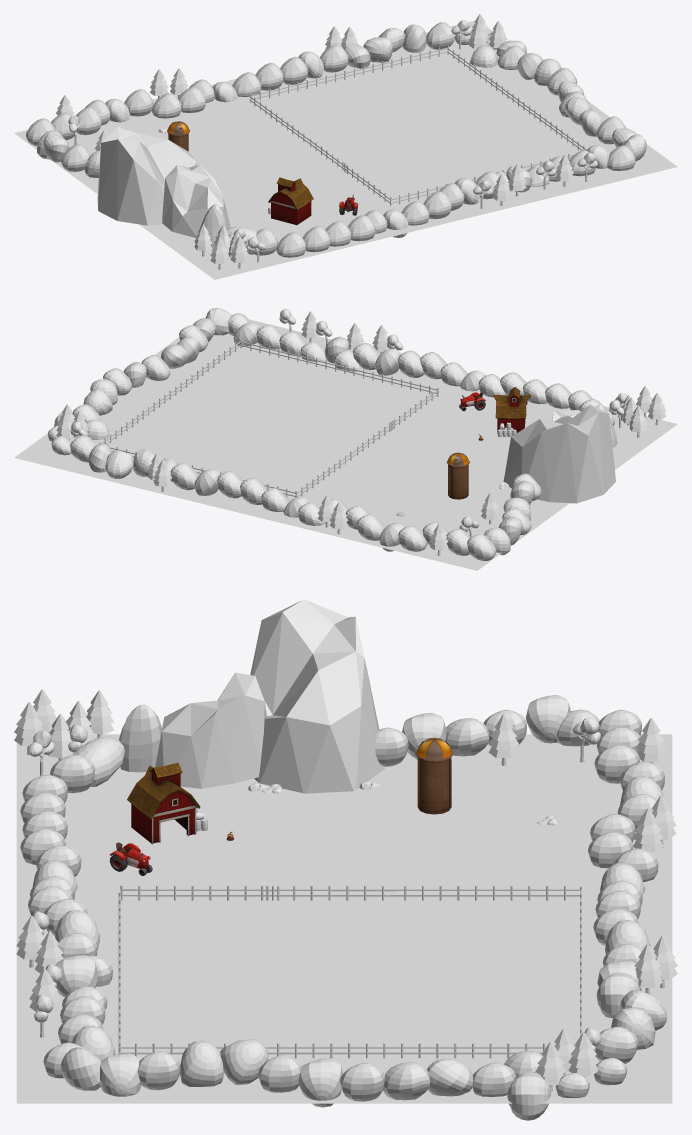
Rendered from Environment.fbx.
3 renders of one model, top to bottom at view 1: azimuth 30°, elevation 25°; view 2: azimuth 150°, elevation 25°; view 3: azimuth 270°, elevation 25°, orthographic. The views are drawn at different scales.
Visible parts, largest first — view 1: Ground, Big Rock, farm_barn, Fence.005, Fence.001, Trees.001, Trees.006, Trees.003, Trees.014, Trees.000, Brush.015, Brush.014 (+41 smaller); view 2: Ground, Big Rock, farm_barn, Fence.003, farm_silo, Fence.001, Trees.006, Brush.017, Trees.001, Brush.019, Brush.004, Trees.002 (+41 smaller); view 3: Ground, Big Rock, farm_barn, farm_silo, Fence.001, Brush.035, Fence.004, Brush.053, Brush.056, Brush.051, Brush.000, Brush.050 (+46 smaller).
Part boxes in pixels (x1=…): Ground: x1=14, y1=20, x2=677, y2=279; Big Rock: x1=97, y1=127, x2=230, y2=237; farm_barn: x1=268, y1=177, x2=313, y2=225; Fence.005: x1=249, y1=47, x2=447, y2=102; Fence.001: x1=447, y1=45, x2=586, y2=150; Trees.001: x1=210, y1=236, x2=248, y2=269; Trees.006: x1=150, y1=68, x2=188, y2=98; Trees.003: x1=469, y1=21, x2=507, y2=49; Trees.014: x1=536, y1=154, x2=573, y2=189; Trees.000: x1=473, y1=174, x2=510, y2=208; Brush.015: x1=426, y1=22, x2=455, y2=49; Brush.014: x1=320, y1=44, x2=348, y2=72; Ground: x1=14, y1=315, x2=677, y2=570; Big Rock: x1=503, y1=404, x2=615, y2=503; farm_barn: x1=493, y1=387, x2=530, y2=433; Fence.003: x1=240, y1=339, x2=437, y2=394; farm_silo: x1=446, y1=452, x2=469, y2=499; Fence.001: x1=99, y1=341, x2=240, y2=444; Trees.006: x1=317, y1=495, x2=348, y2=534; Brush.017: x1=105, y1=450, x2=133, y2=478; Trees.001: x1=636, y1=386, x2=666, y2=425; Brush.019: x1=467, y1=534, x2=496, y2=560; Brush.004: x1=398, y1=525, x2=427, y2=551; Trees.002: x1=622, y1=397, x2=647, y2=437; Ground: x1=16, y1=734, x2=672, y2=1103; Big Rock: x1=155, y1=599, x2=384, y2=793; farm_barn: x1=127, y1=762, x2=200, y2=844; farm_silo: x1=415, y1=737, x2=453, y2=814; Fence.001: x1=120, y1=1043, x2=575, y2=1058; Brush.035: x1=119, y1=704, x2=161, y2=772; Fence.004: x1=279, y1=885, x2=579, y2=900; Brush.053: x1=180, y1=1040, x2=224, y2=1086; Brush.056: x1=298, y1=1058, x2=342, y2=1107; Brush.051: x1=220, y1=1039, x2=268, y2=1085; Brush.000: x1=507, y1=1072, x2=550, y2=1120; Brush.050: x1=100, y1=1053, x2=140, y2=1096.
Size of the model in its own units: 8410 by 1677 by 6076.
